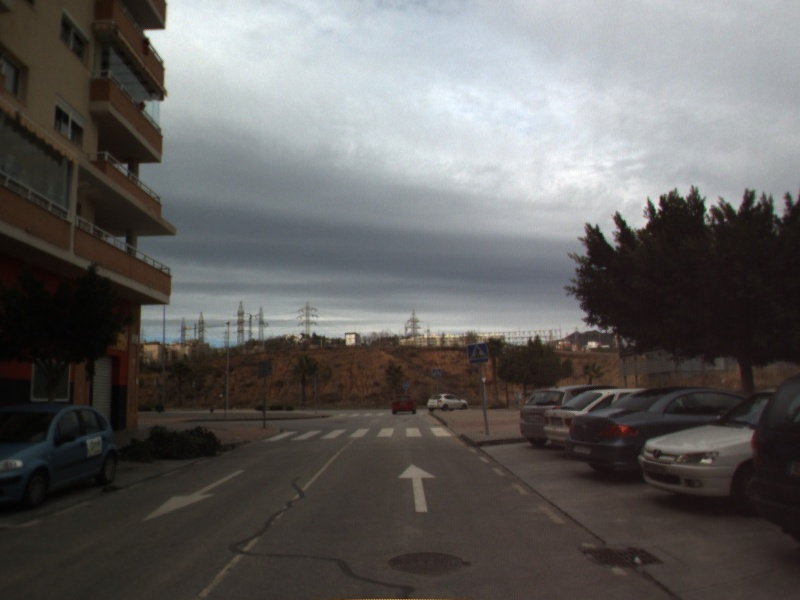STRAIGHT: (396, 462, 439, 514)
